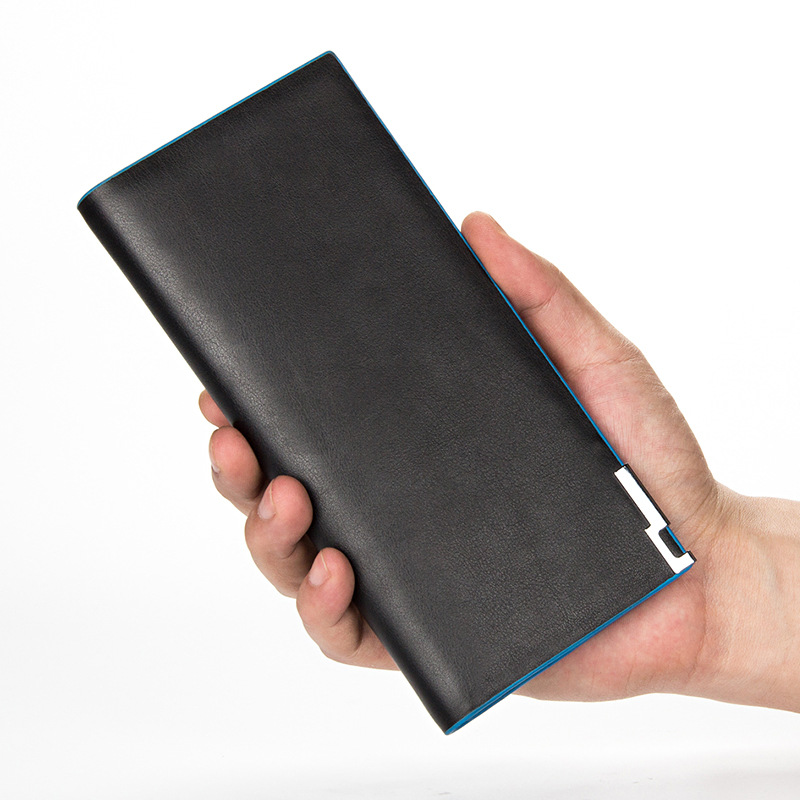monedero: (73, 47, 704, 739)
